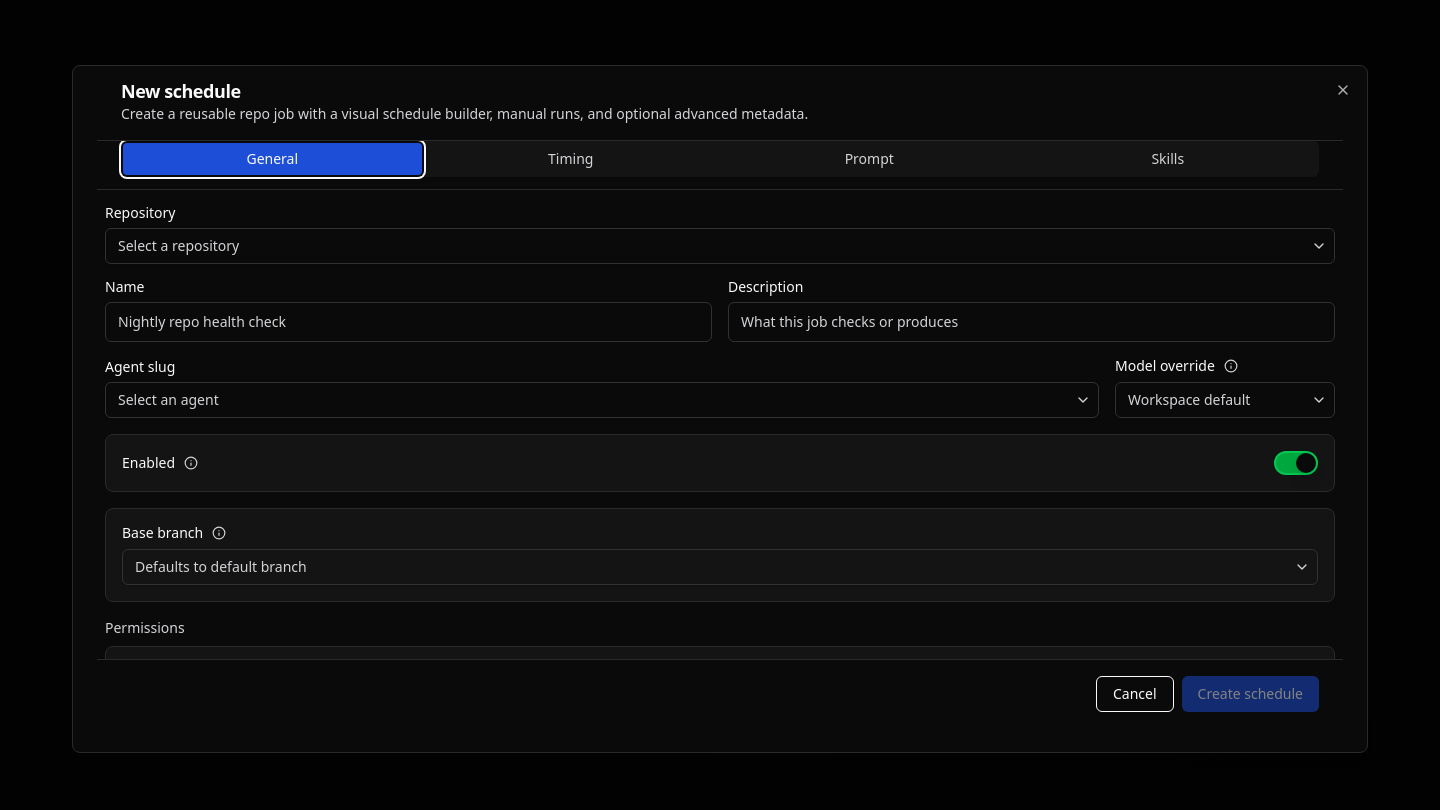
ScheduleJobDialog — assistant create guard › renders Assistant as the first repository option
# Open the repo combobox by clicking the chevron/input
Click the field with placeholder "Select a repository".
click(720, 246)  # box 105,228 -> 1335,264
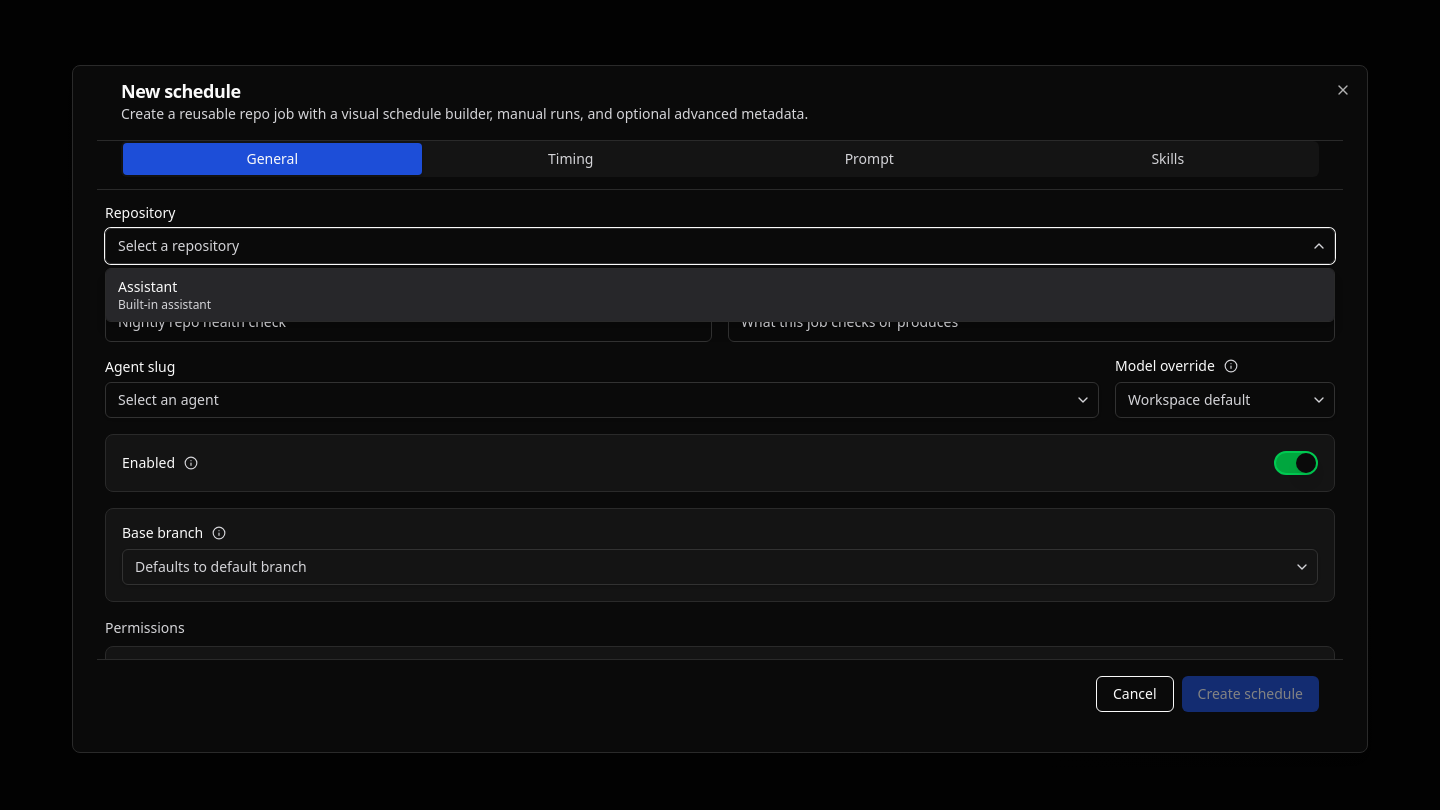
Check: the text "Assistant" is shown, box 118,277 -> 177,296
Check: the text "Built-in assistant" is shown, box 118,296 -> 211,313
